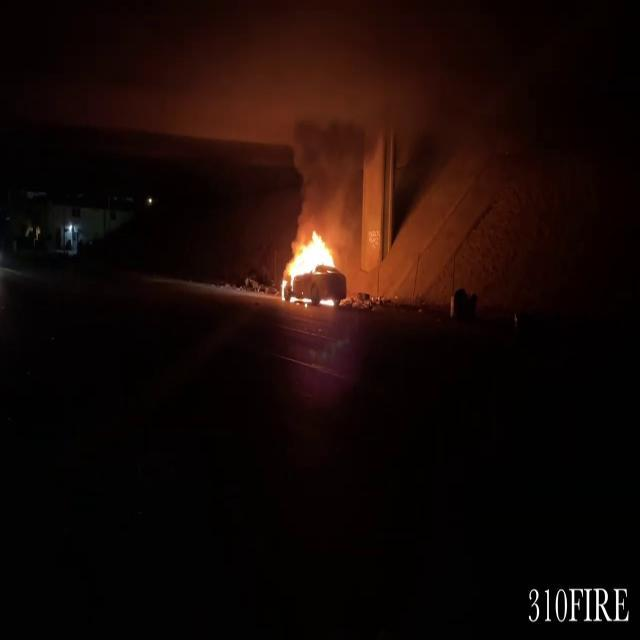Fire: (276, 220, 348, 306)
